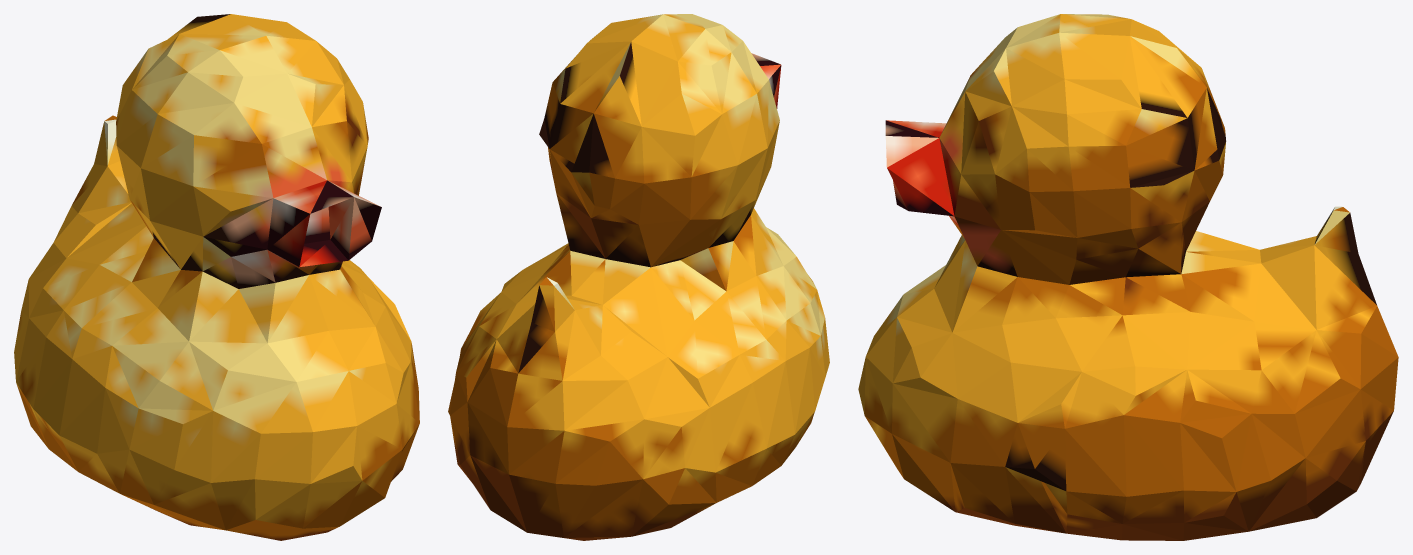
Rendered from rubber_duck.obj.
The picture shows the model from 3 angles, left to right: view 1: azimuth 30°, elevation 25°; view 2: azimuth 150°, elevation 25°; view 3: azimuth 270°, elevation 25°; orthographic projection. The views are drawn at different scales.
Parts seen in each view (by area): view 1: mesh; view 2: mesh; view 3: mesh.
Part boxes in pixels (x1,y1,x2,y2): mesh: [14, 14, 419, 540]; mesh: [448, 14, 829, 540]; mesh: [858, 14, 1398, 540].
Size of the model in its own units: 11.93 by 16 by 16.87.
Materials: 1 (1 with a texture image).
